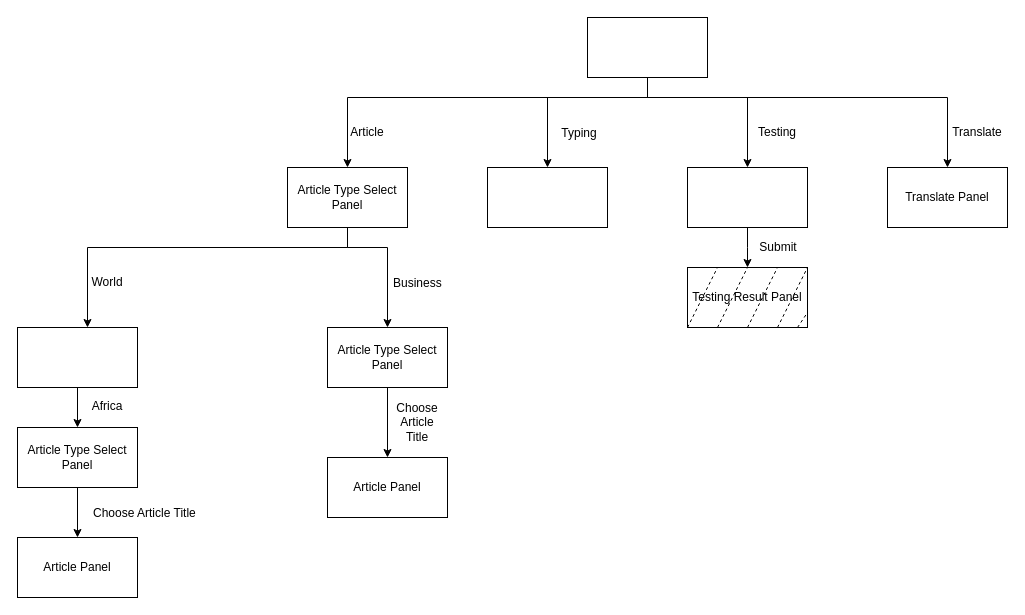
Some shapes in this 1025 by 615 pixel diagram are drawn without their labels. The shapes that lost their labels are listed below. From the top down, each one's centre as x and y in pixels, then its label:
[647,47]: Main Panel
[547,197]: Typing Panel
[747,197]: Testing Panel
[77,357]: World Panel
